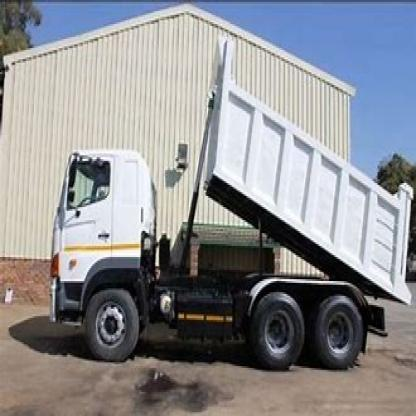dump_truck: (44, 30, 411, 366)
